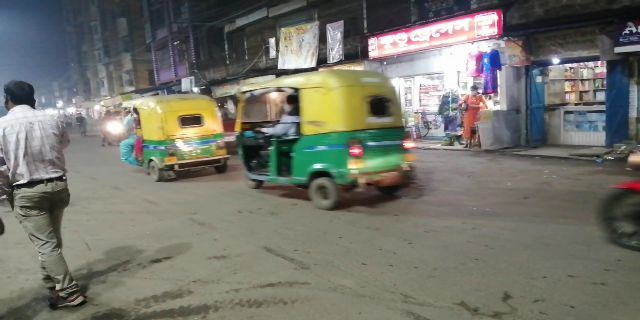Autorickshaw: (228, 72, 412, 211), (119, 96, 229, 175)
